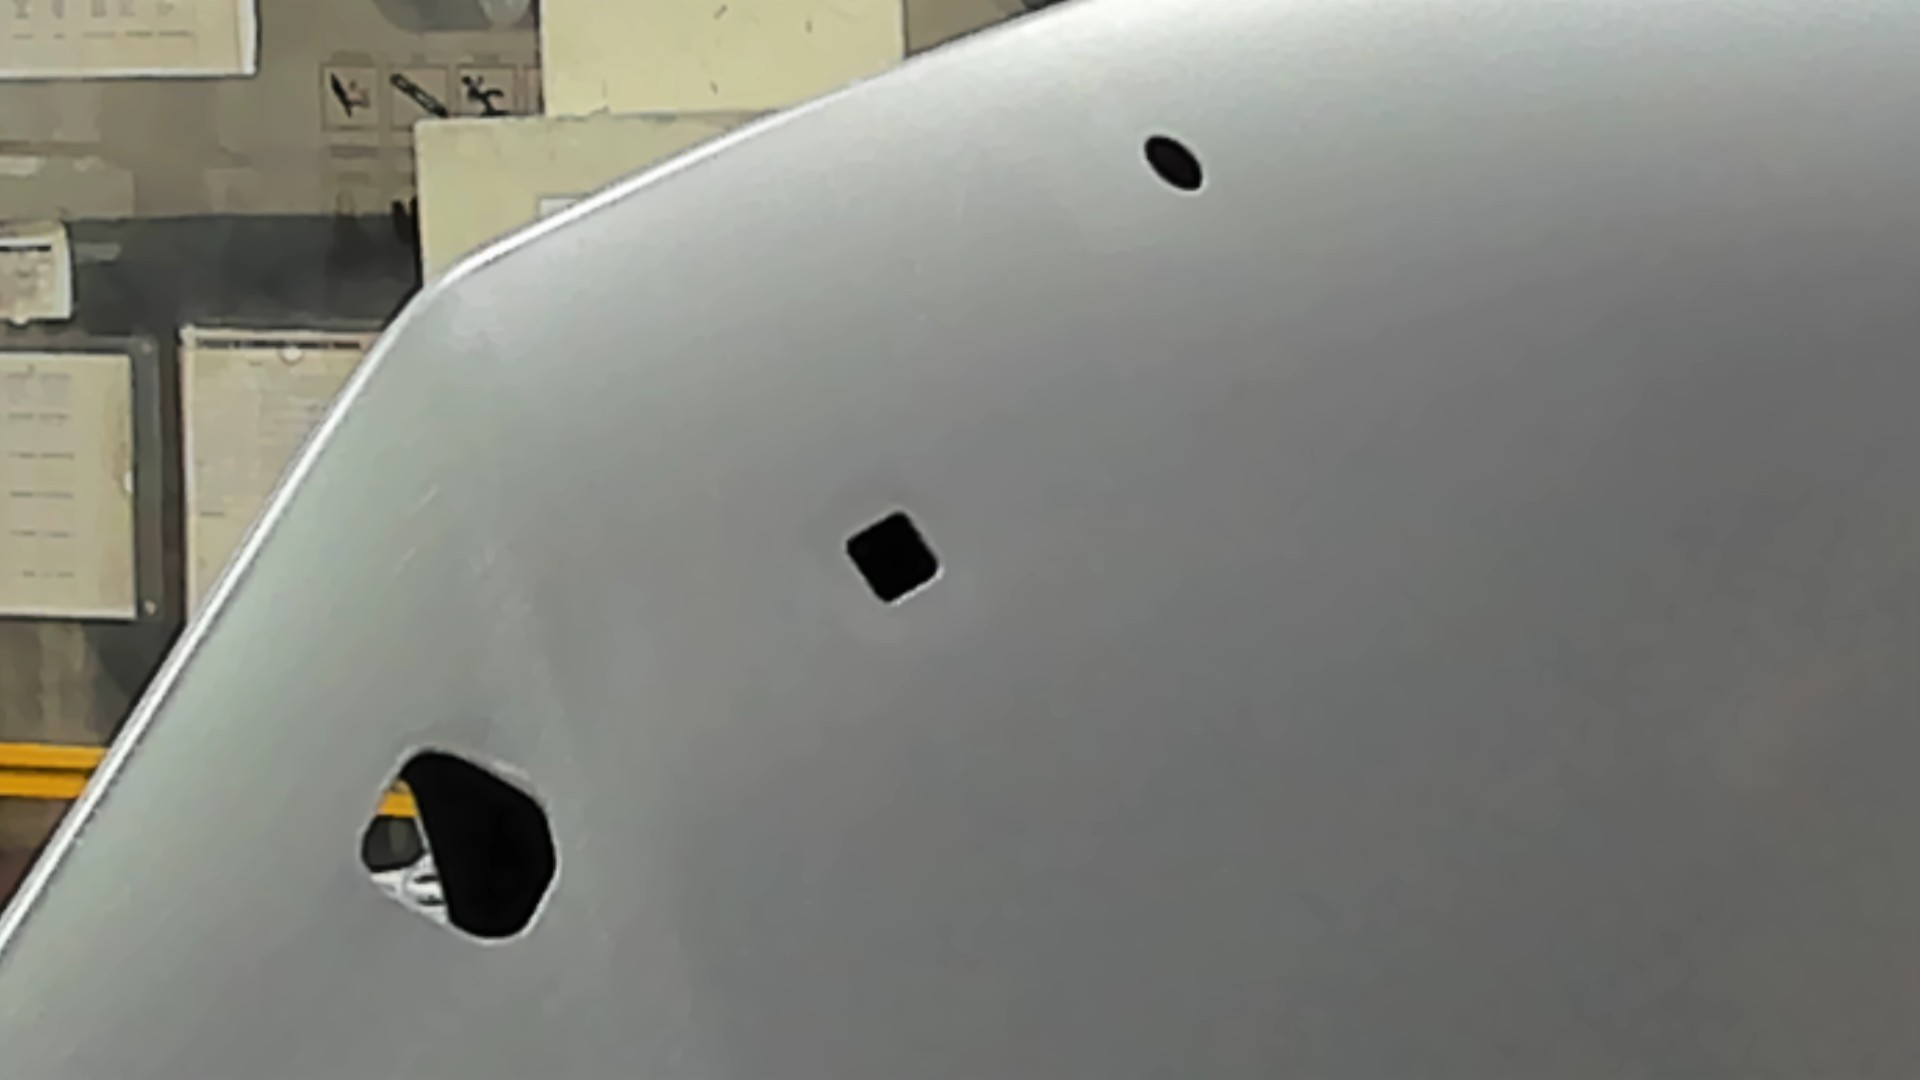chico: (1142, 129, 1204, 195)
grande: (352, 741, 564, 949)
mediano: (837, 505, 947, 611)
